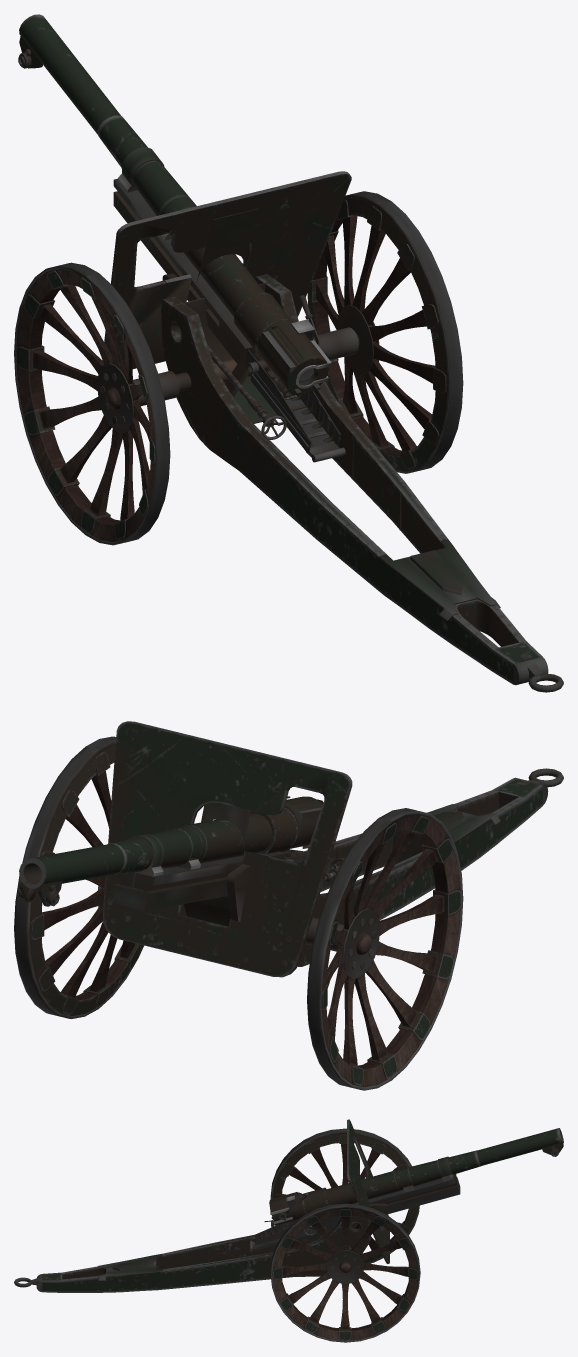
Rendered from YDL P.fbx.
3 renders of one model, top to bottom at view 1: azimuth 30°, elevation 25°; view 2: azimuth 150°, elevation 25°; view 3: azimuth 270°, elevation 25°, orthographic. The views are drawn at different scales.
Visible parts, largest first — view 1: Untitled.160, Untitled.035, Untitled.034, Untitled.001, Untitled.161, Untitled.068, Untitled.066, Cylinder, Untitled.069, Untitled.036, Untitled.123, Untitled.067 (+1 smaller); view 2: Untitled.001, Untitled.035, Untitled.034, Untitled.161, Untitled.160, Untitled.068, Untitled.066, Untitled.075, Untitled.123, Cylinder, Untitled.067, Untitled.124; view 3: Untitled.034, Untitled.160, Untitled.161, Untitled.035, Untitled.068, Untitled.001, Untitled.066, Cylinder, Untitled.069.
Boxes of the visible parts, left/top/right/bottom form: Untitled.160: left=161, top=274, right=542, bottom=684; Untitled.035: left=14, top=262, right=170, bottom=545; Untitled.034: left=307, top=191, right=463, bottom=473; Untitled.001: left=102, top=171, right=351, bottom=368; Untitled.161: left=19, top=14, right=291, bottom=357; Untitled.068: left=113, top=178, right=255, bottom=366; Untitled.066: left=379, top=539, right=500, bottom=621; Cylinder: left=257, top=320, right=328, bottom=395; Untitled.069: left=245, top=350, right=340, bottom=453; Untitled.036: left=133, top=327, right=359, bottom=406; Untitled.123: left=196, top=208, right=258, bottom=282; Untitled.067: left=172, top=280, right=277, bottom=437; Untitled.001: left=103, top=721, right=352, bottom=977; Untitled.035: left=307, top=808, right=463, bottom=1090; Untitled.034: left=14, top=736, right=144, bottom=1018; Untitled.161: left=19, top=807, right=297, bottom=888; Untitled.160: left=180, top=778, right=542, bottom=966; Untitled.068: left=113, top=851, right=286, bottom=911; Untitled.066: left=427, top=804, right=500, bottom=842; Untitled.075: left=226, top=864, right=250, bottom=921; Untitled.123: left=201, top=802, right=250, bottom=855; Cylinder: left=284, top=796, right=322, bottom=848; Untitled.067: left=184, top=902, right=301, bottom=966; Untitled.124: left=128, top=834, right=164, bottom=876; Untitled.034: left=270, top=1203, right=420, bottom=1342; Untitled.160: left=42, top=1216, right=370, bottom=1292; Untitled.161: left=301, top=1128, right=563, bottom=1213; Untitled.035: left=270, top=1128, right=419, bottom=1263; Untitled.068: left=321, top=1174, right=460, bottom=1230; Untitled.001: left=347, top=1119, right=389, bottom=1263; Untitled.066: left=98, top=1254, right=162, bottom=1281; Cylinder: left=269, top=1193, right=305, bottom=1225; Untitled.069: left=254, top=1220, right=322, bottom=1249.
Bounding box in the file's own units: 393 × 408 × 1164.
